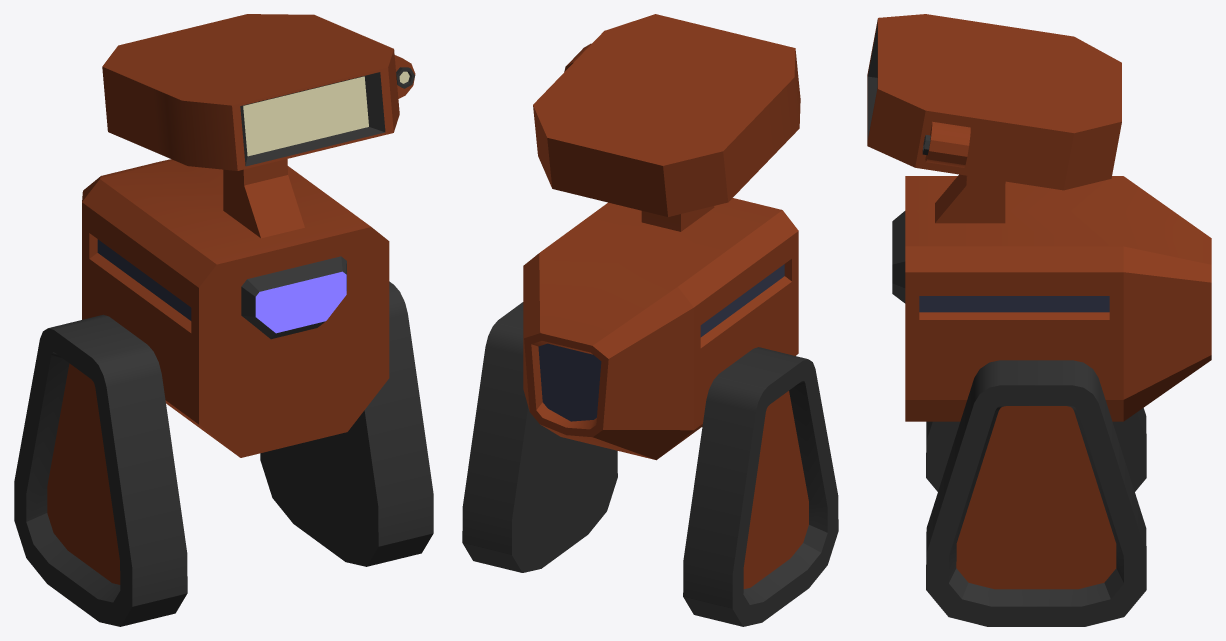
The model's file is robot2.fbx.
3 views of the same model, side by side, from view 1: azimuth 30°, elevation 25°; view 2: azimuth 150°, elevation 25°; view 3: azimuth 270°, elevation 25° (orthographic). The views are drawn at different scales.
Visible parts, largest first — view 1: Body, LegR, Head, LegL; view 2: Body, Head, LegR, LegL; view 3: Body, LegL, Head, LegR.
Part boxes in pixels (box(x1,y1,x2,y2)): Body: box(82, 159, 389, 457); LegR: box(14, 314, 187, 626); Head: box(102, 14, 415, 170); LegL: box(260, 281, 433, 566); Body: box(523, 198, 798, 460); Head: box(533, 14, 800, 216); LegR: box(683, 347, 838, 626); LegL: box(462, 302, 617, 572); Body: box(892, 174, 1211, 421); LegL: box(926, 360, 1146, 626); Head: box(867, 14, 1121, 190); LegR: box(926, 408, 1146, 491).
Size of the model in its own units: 213 by 366 by 226.
